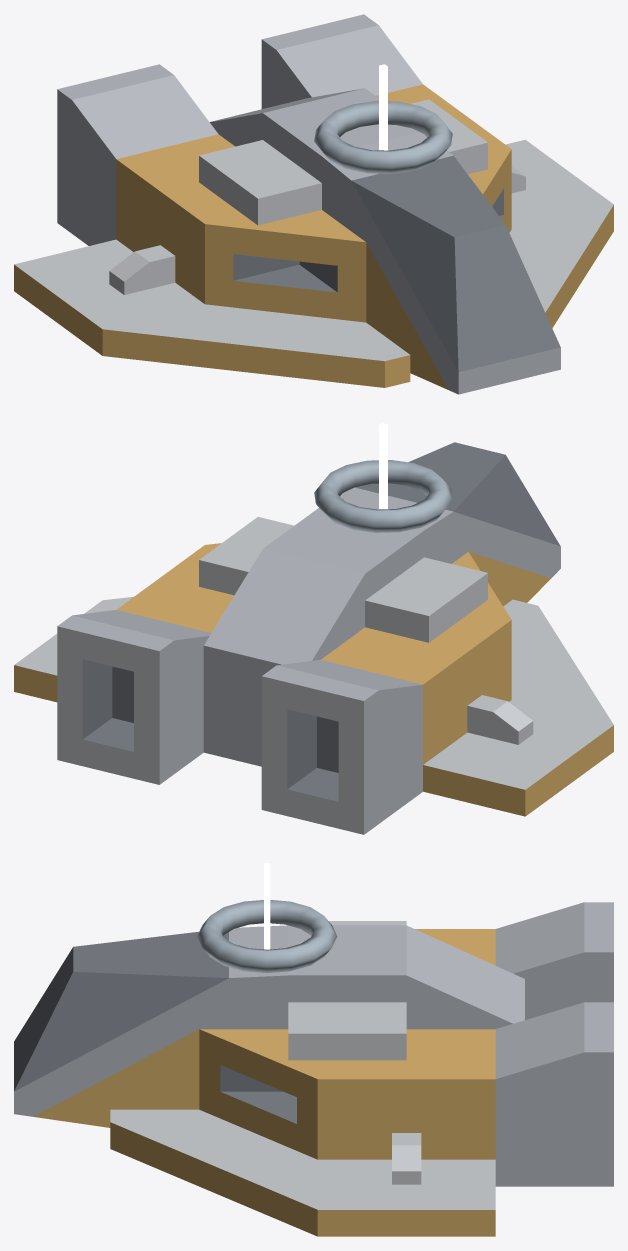
The model's file is npc_courier.glb.
3 views of the same model, one above another, from view 1: azimuth 30°, elevation 25°; view 2: azimuth 150°, elevation 25°; view 3: azimuth 270°, elevation 25° (orthographic).
Visible parts, largest first — view 1: npc_courier; view 2: npc_courier; view 3: npc_courier.
Part boxes in pixels (x1,y1,x2,y2): npc_courier: [14, 14, 613, 394]; npc_courier: [14, 423, 613, 834]; npc_courier: [14, 863, 613, 1236].
Bounding box in the file's own units: 1.65 × 0.757 × 1.67.
